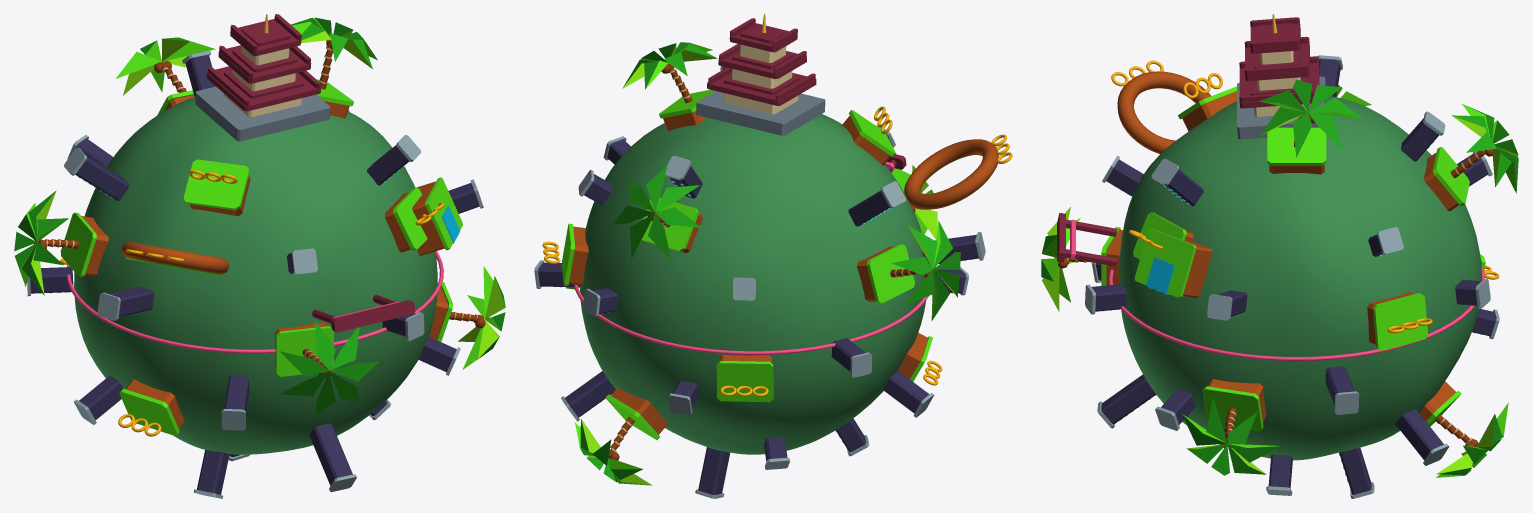
Rendered from dojo.obj.
3 views of the same model, side by side, from view 1: azimuth 30°, elevation 25°; view 2: azimuth 150°, elevation 25°; view 3: azimuth 270°, elevation 25° (orthographic). The views are drawn at different scales.
Parts seen in each view (by area): view 1: surface, neon_pagoda, green_hill_island_6, green_hill_island_4, green_hill_island_8, green_hill_island_1, green_hill_island_0, green_hill_island_2, green_hill_island_9, turquoise_cascade, green_hill_loop, green_hill_island_3 (+16 smaller); view 2: surface, neon_pagoda, green_hill_island_4, green_hill_island_2, green_hill_loop, green_hill_island_10, green_hill_island_0, green_hill_island_7, green_hill_island_1, green_hill_island_5, orbital_neon_belt, city_tower_18 (+15 smaller); view 3: surface, neon_pagoda, green_hill_island_0, green_hill_island_8, green_hill_island_2, turquoise_cascade, green_hill_loop, green_hill_island_5, green_hill_island_10, green_hill_island_6, orbital_neon_belt, green_hill_island_1 (+18 smaller).
Boxes of the visible parts, x1,y1,x2,y2 form: surface: (74,96,437,454); neon_pagoda: (195,14,330,141); green_hill_island_6: (274,320,379,416); green_hill_island_4: (14,190,108,295); green_hill_island_8: (429,266,505,369); green_hill_island_1: (183,159,250,216); green_hill_island_0: (291,17,377,118); green_hill_island_2: (116,37,215,115); green_hill_island_9: (118,379,184,436); turquoise_cascade: (412,177,462,255); green_hill_loop: (121,242,228,275); green_hill_island_3: (385,187,444,252); surface: (580,114,926,454); neon_pagoda: (696,14,825,135); green_hill_island_4: (856,220,960,320); green_hill_island_2: (612,165,702,260); green_hill_loop: (904,134,1012,209); green_hill_island_10: (575,387,668,485); green_hill_island_0: (622,42,717,130); green_hill_island_7: (716,354,773,402); green_hill_island_1: (842,106,896,165); green_hill_island_5: (542,223,588,286); orbital_neon_belt: (574,284,928,354); city_tower_18: (561,371,615,421); surface: (1119,96,1481,460); neon_pagoda: (1237,14,1326,139); green_hill_island_0: (1259,79,1362,174); green_hill_island_8: (1181,379,1280,475); green_hill_island_2: (1423,104,1518,210); turquoise_cascade: (1134,228,1212,297); green_hill_loop: (1111,60,1210,153); green_hill_island_5: (1367,292,1432,350); green_hill_island_10: (1419,381,1508,477); green_hill_island_6: (1041,207,1122,311); orbital_neon_belt: (1108,265,1484,360); green_hill_island_1: (1178,73,1236,131).
Size of the model in its own units: 13.63 by 14.24 by 12.97.
